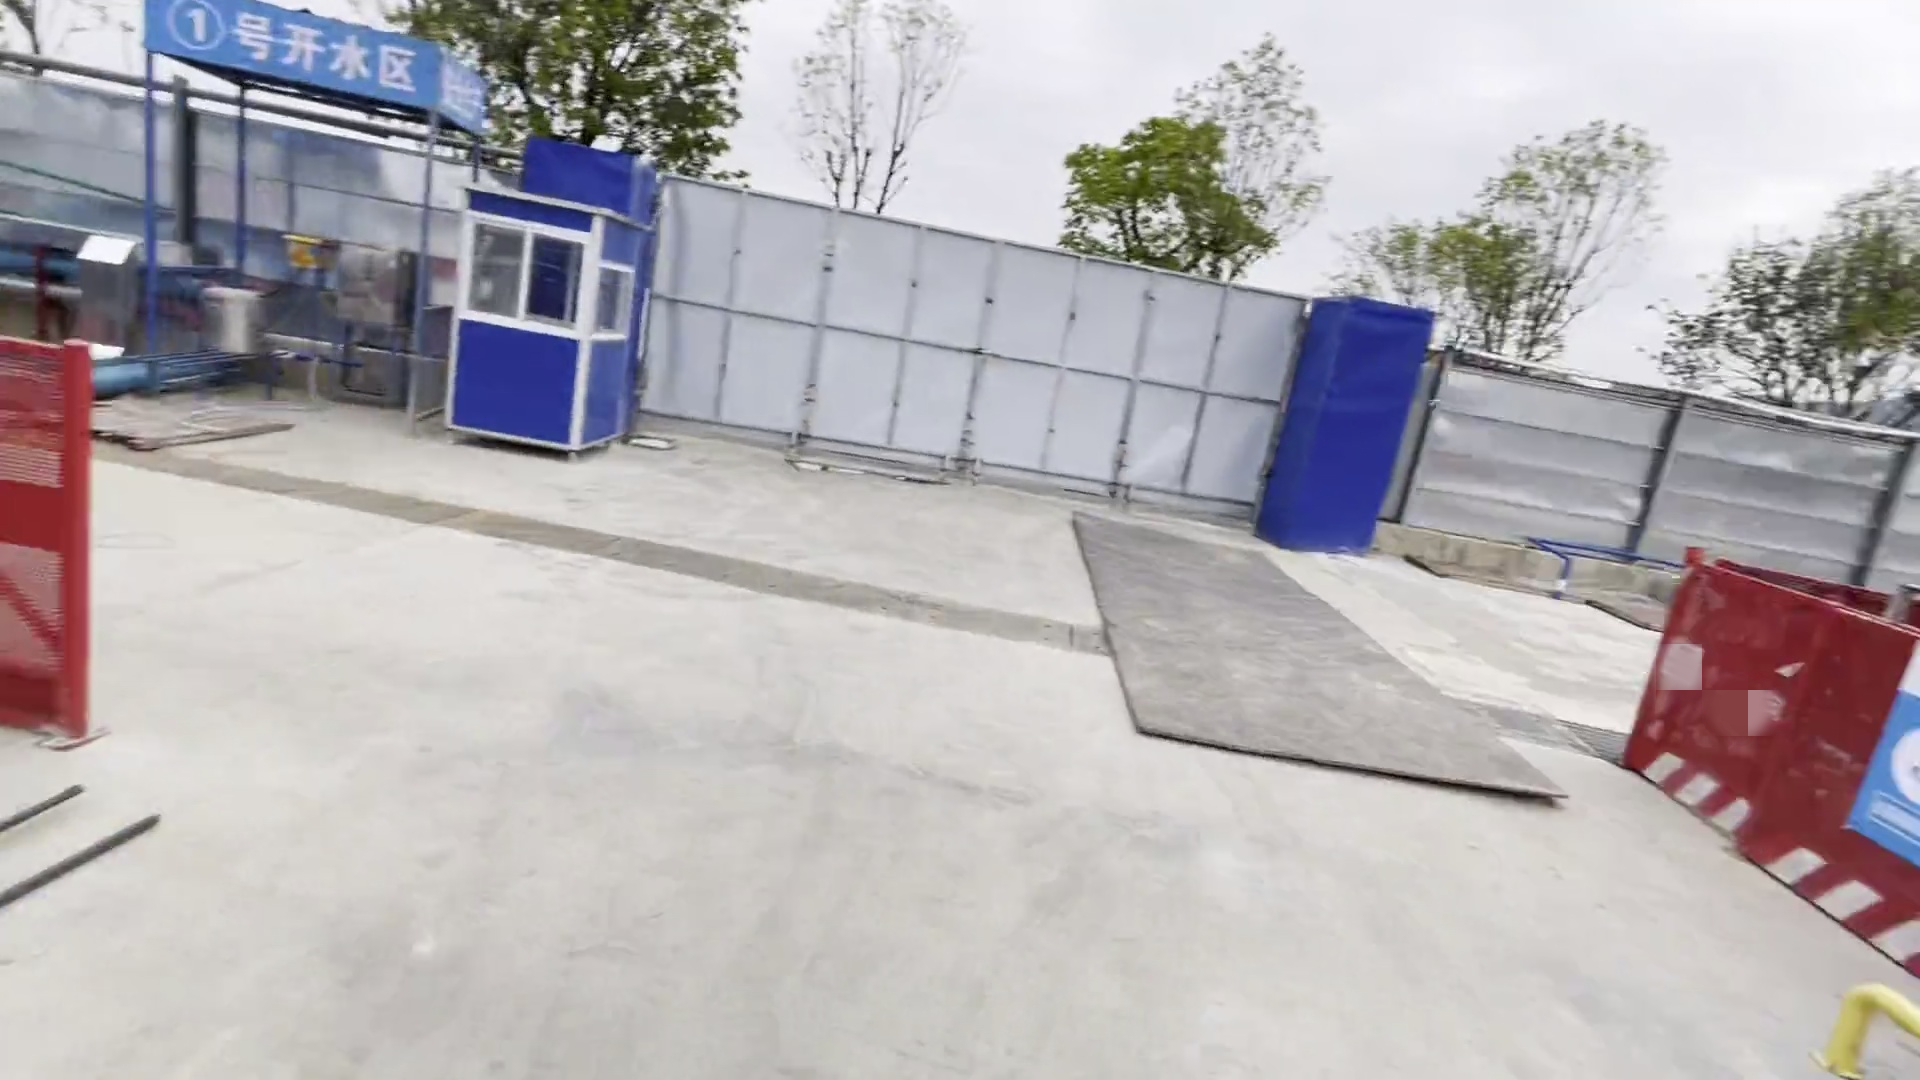ebox: (286, 233, 324, 272)
fence: (1619, 551, 1920, 976), (1, 338, 109, 738)
